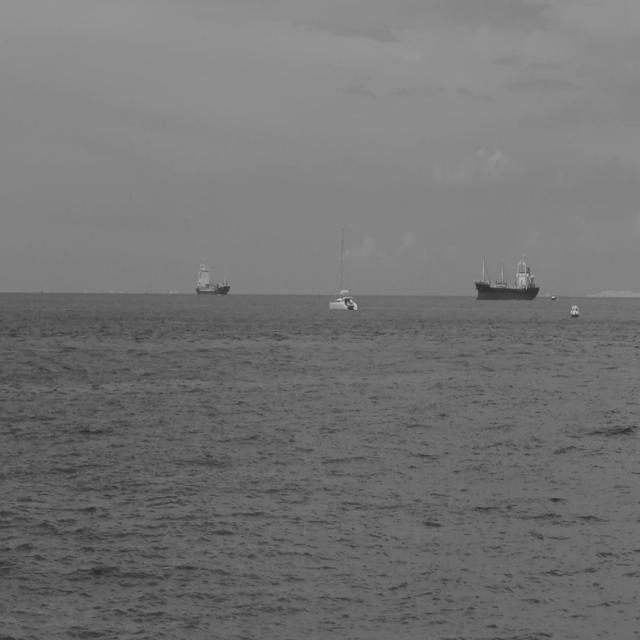ship: (472, 250, 541, 302), (328, 222, 359, 314), (194, 259, 232, 298), (568, 301, 580, 320), (551, 292, 556, 302)
